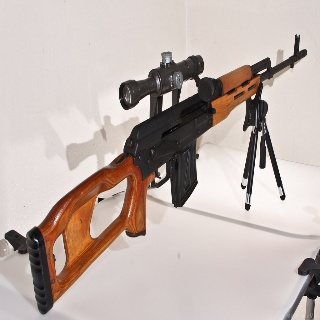rifle: (22, 32, 308, 315)
